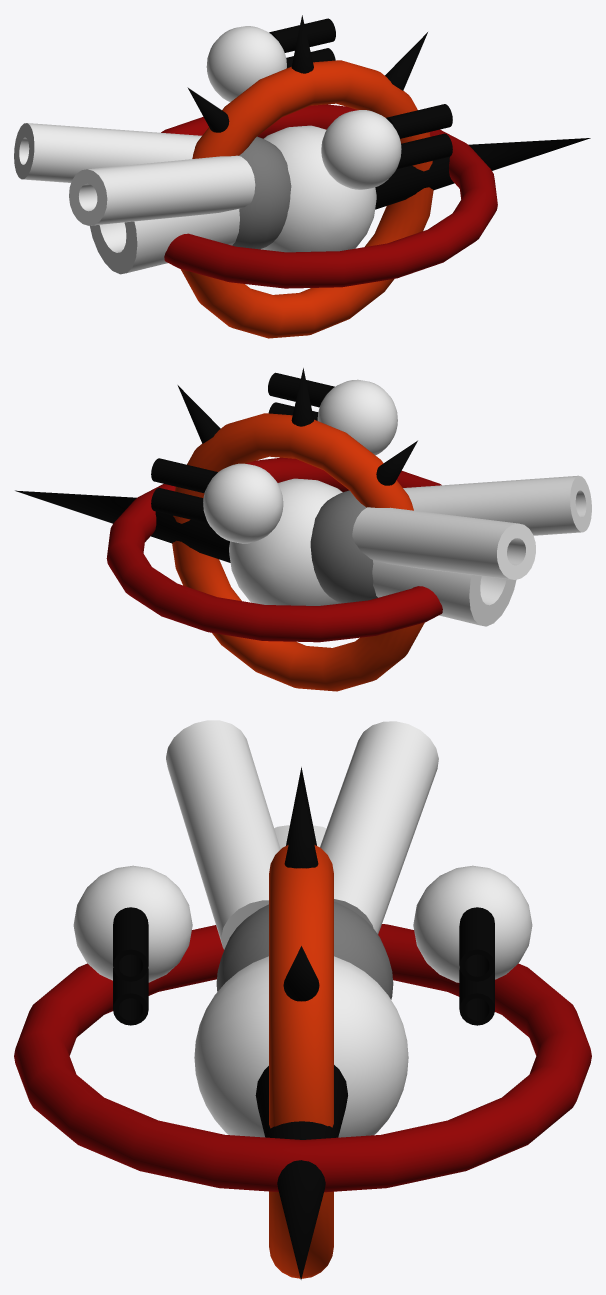
Rendered from Galacbot_v2.fbx.
3 renders of one model, top to bottom at view 1: azimuth 30°, elevation 25°; view 2: azimuth 150°, elevation 25°; view 3: azimuth 270°, elevation 25°, orthographic. The views are drawn at different scales.
Visible parts, largest first — view 1: pTorus1, pTorus2, pPipe3, pSphere1, pPipe2, pPipe1, pSphere2, pSphere4, pSphere3, pCone1, pPipe4, pPipe7 (+4 smaller); view 2: pTorus1, pTorus2, pPipe2, pSphere1, pPipe3, pSphere4, pSphere3, pPipe1, pSphere2, pCone1, pPipe5, pPipe6 (+4 smaller); view 3: pTorus2, pSphere1, pTorus1, pPipe3, pPipe2, pSphere3, pSphere2, pCone1, pSphere4, pPipe5, pPipe4, pPipe6 (+3 smaller).
Boxes of the visible parts, x1,y1,x2,y2 form: pTorus1: (180,60,433,338); pTorus2: (161,104,497,288); pPipe3: (69,155,255,225); pSphere1: (261,125,376,252); pPipe2: (14,123,201,182); pPipe1: (90,209,239,274); pSphere2: (321,110,401,189); pSphere4: (232,136,291,249); pSphere3: (206,26,286,102); pCone1: (375,138,590,209); pPipe4: (386,104,452,138); pPipe7: (397,133,452,168); pTorus1: (172,413,424,691); pTorus2: (106,457,442,642); pPipe2: (352,507,535,579); pSphere1: (229,478,342,605); pPipe3: (403,475,591,535); pSphere4: (310,490,377,603); pSphere3: (203,463,283,543); pPipe1: (372,560,516,626); pSphere2: (317,379,397,455); pCone1: (15,490,230,562); pPipe5: (151,458,217,493); pPipe6: (151,488,208,523); pTorus2: (14,924,591,1192); pSphere1: (194,956,408,1137); pTorus1: (269,845,333,1278); pPipe3: (166,720,280,949); pPipe2: (320,721,438,934); pSphere3: (413,865,532,982); pSphere2: (73,865,192,982); pCone1: (255,1065,347,1279); pSphere4: (216,902,393,999); pPipe5: (459,907,494,981); pPipe4: (113,907,148,981); pPipe6: (459,967,494,1025).
Size of the model in its own units: 17.16 by 9.68 by 10.68.
